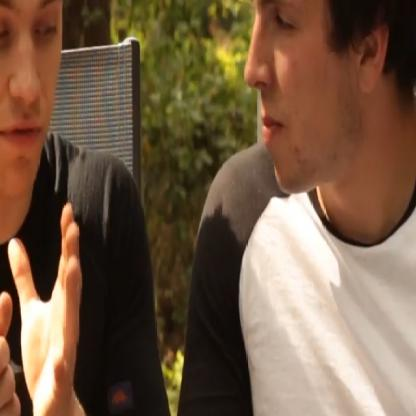knife: (0, 177, 26, 416)
